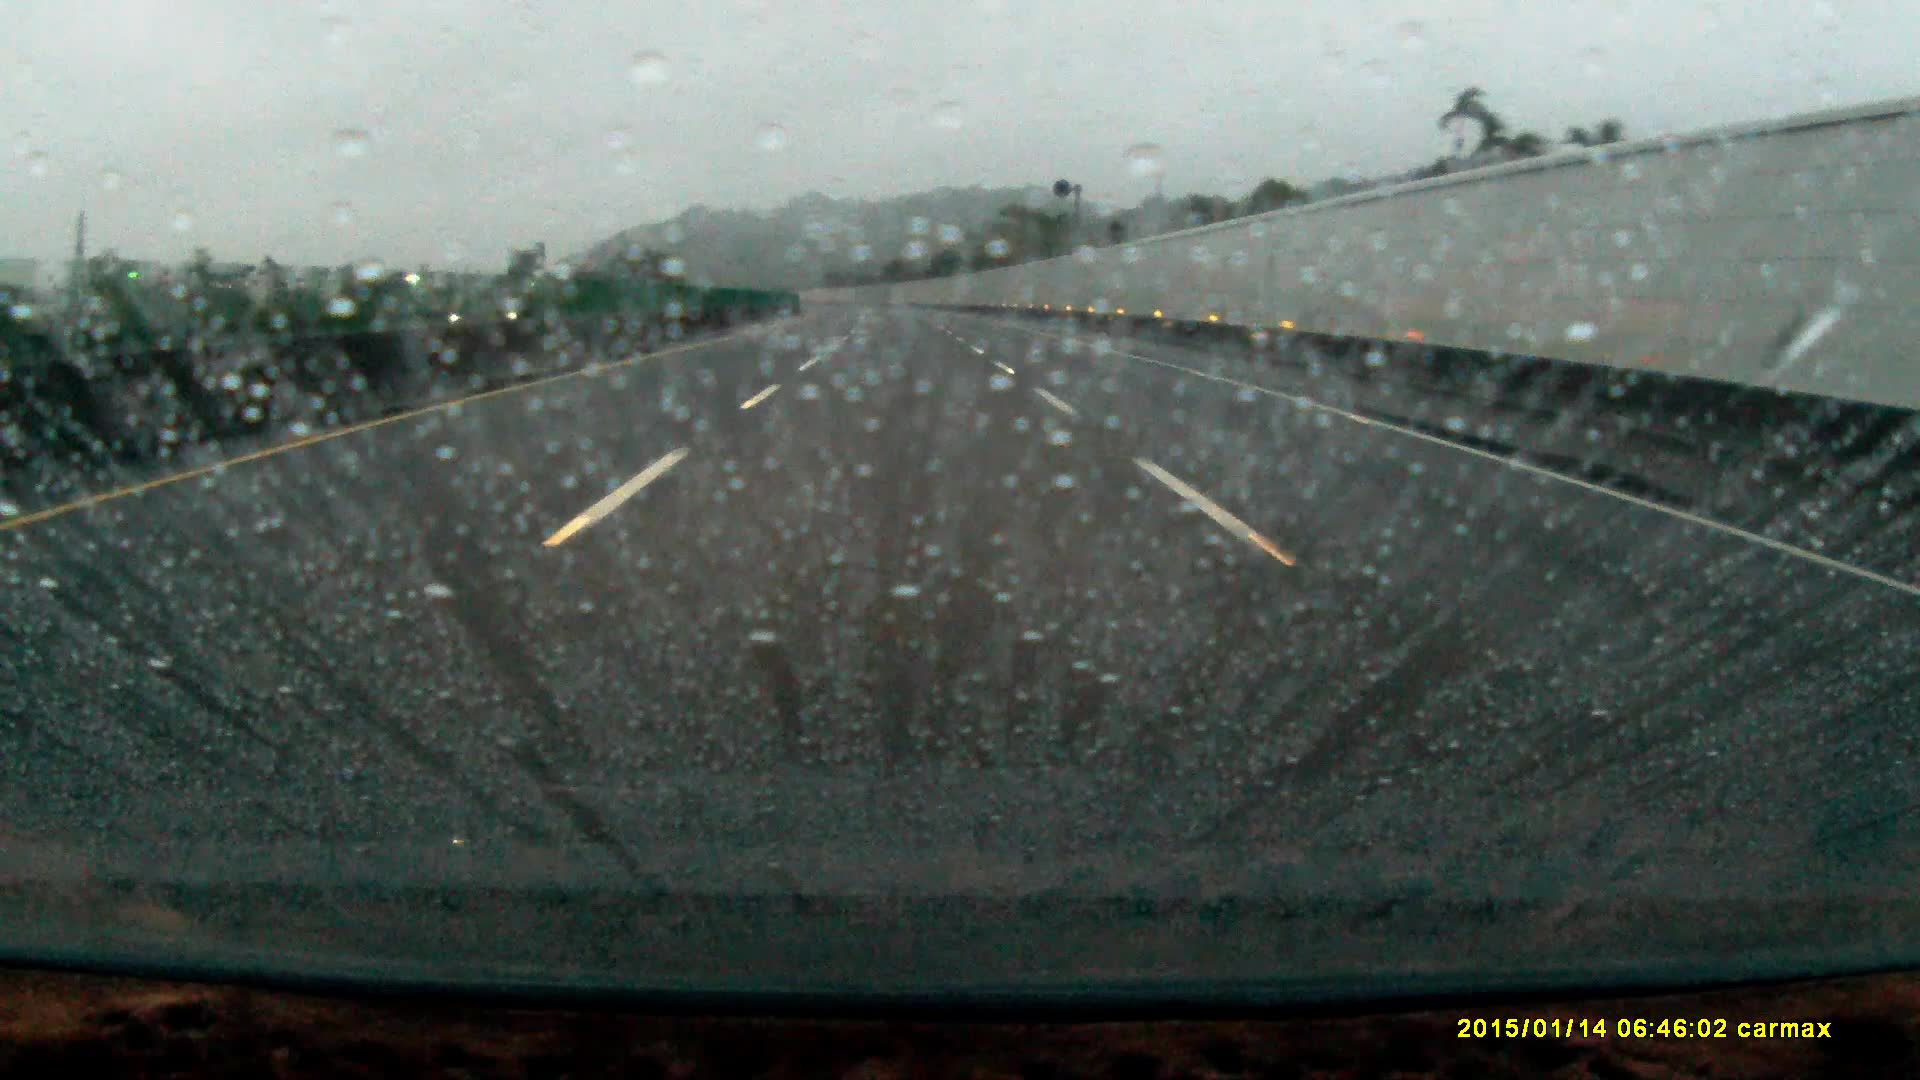vehicle: (448, 290, 531, 330)
